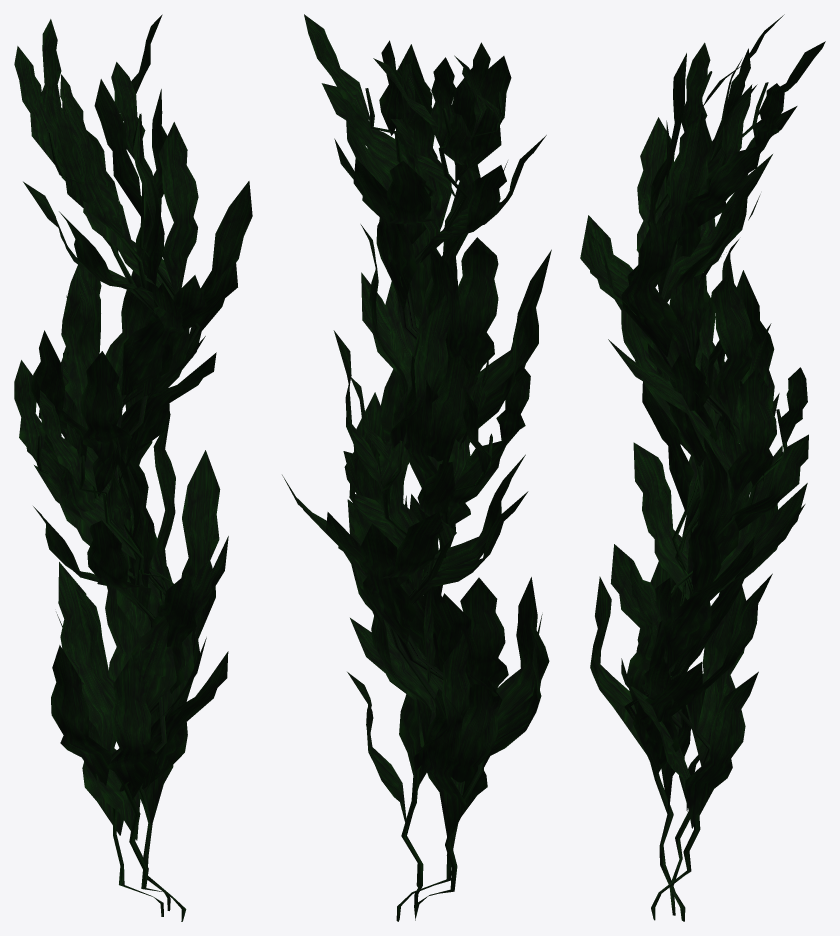
Rendered from claret_tall_seaweed.glb.
3 views of the same model, side by side, from view 1: azimuth 30°, elevation 25°; view 2: azimuth 150°, elevation 25°; view 3: azimuth 270°, elevation 25° (orthographic). The views are drawn at different scales.
Visible parts, largest first — view 1: defaultMaterial; view 2: defaultMaterial; view 3: defaultMaterial.
Part boxes in pixels (<box>): defaultMaterial: <box>14,14,252,921</box>; defaultMaterial: <box>282,14,551,921</box>; defaultMaterial: <box>580,14,825,921</box>.
Size of the model in its own units: 0.4933 by 2 by 0.5178.
Materials: 1 (1 with a texture image).
